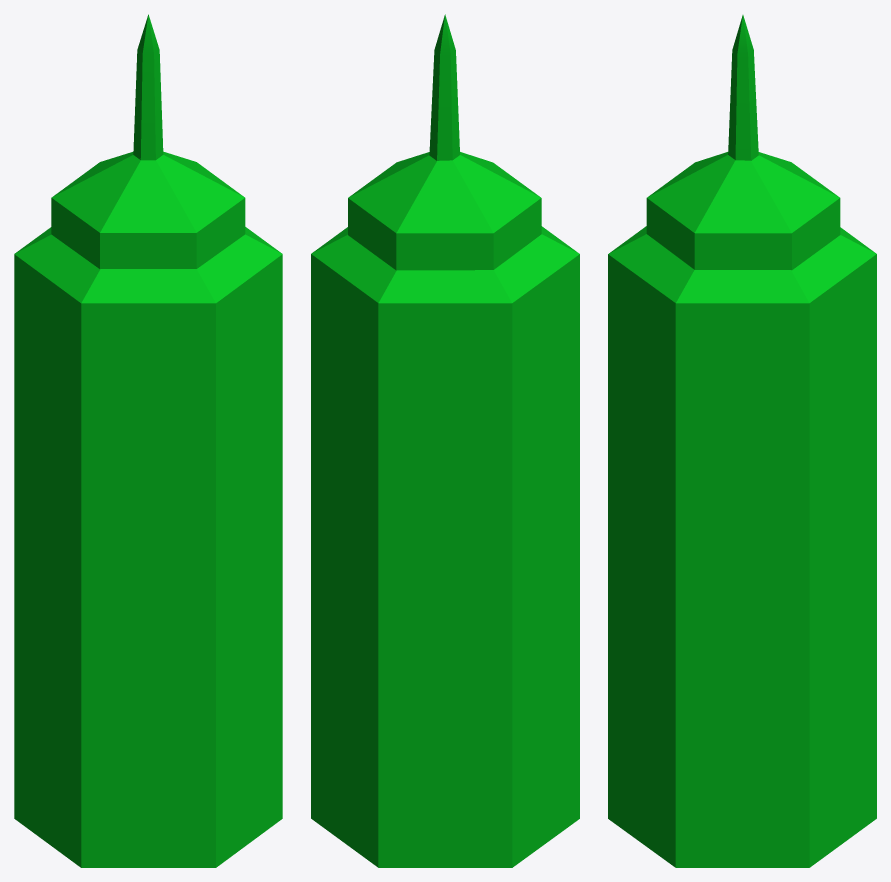
File: BotellaAji.fbx
3 views of the same model, side by side, from view 1: azimuth 30°, elevation 25°; view 2: azimuth 150°, elevation 25°; view 3: azimuth 270°, elevation 25° (orthographic).
Parts seen in each view (by area): view 1: BotellaAji; view 2: BotellaAji; view 3: BotellaAji.
Boxes of the visible parts, x1,y1,x2,y2 form: BotellaAji: [14, 14, 282, 867]; BotellaAji: [311, 14, 579, 867]; BotellaAji: [608, 15, 876, 867].
Size of the model in its own units: 5.02 by 19.12 by 5.79.
